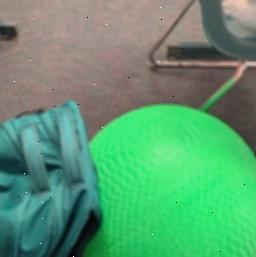algae: (81, 103, 256, 257)
